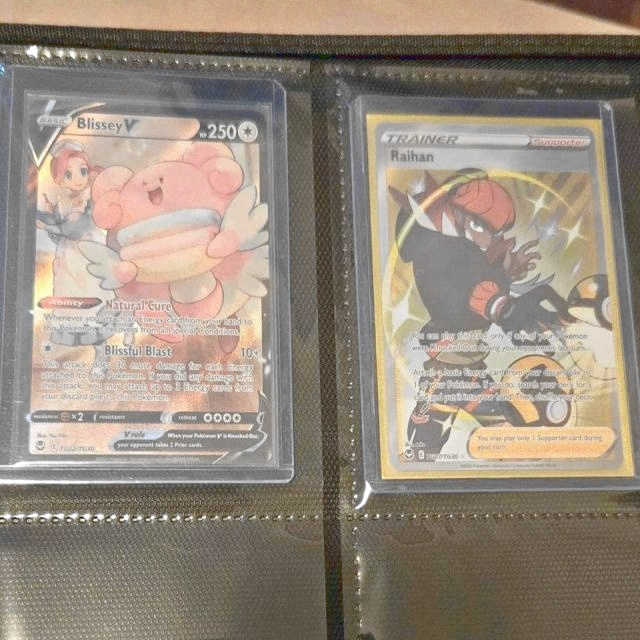card: (17, 98, 273, 466), (375, 121, 624, 472)
